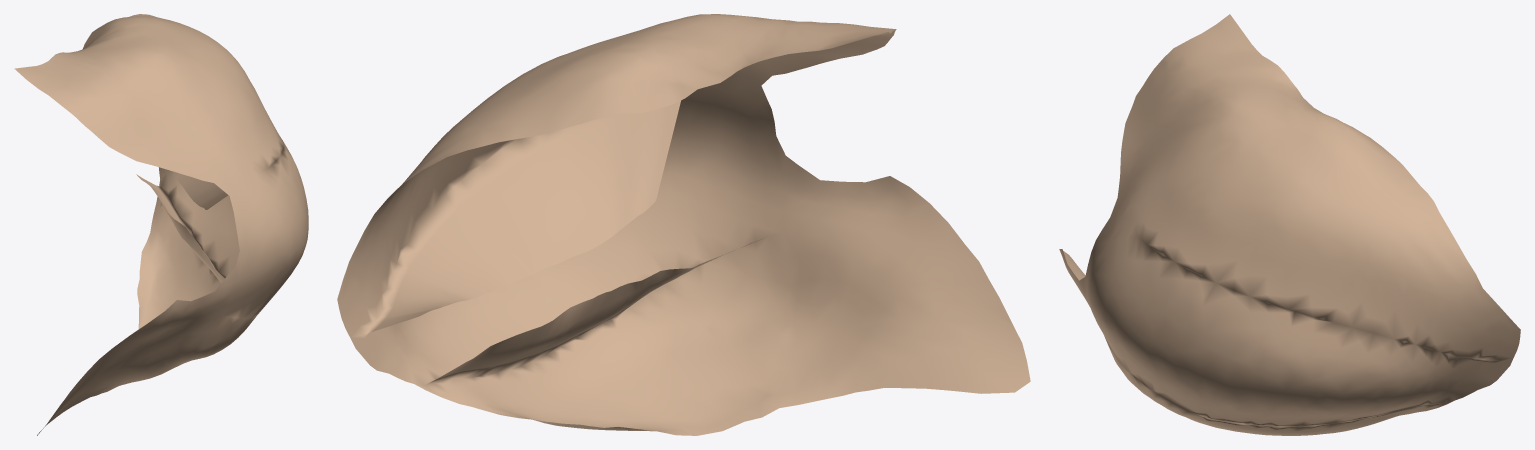
3 renders of one model, left to right at view 1: azimuth 30°, elevation 25°; view 2: azimuth 150°, elevation 25°; view 3: azimuth 270°, elevation 25°, orthographic. The views are drawn at different scales.
Visible parts, largest first — view 1: 左侧三角肌筋膜; view 2: 左侧三角肌筋膜; view 3: 左侧三角肌筋膜.
Part boxes in pixels (left/top/right/bottom): 左侧三角肌筋膜: left=14, top=14, right=308, bottom=435; 左侧三角肌筋膜: left=337, top=14, right=1030, bottom=435; 左侧三角肌筋膜: left=1059, top=14, right=1520, bottom=435.
Bounding box in the file's own units: 0.2118 × 0.1952 × 0.2393.
